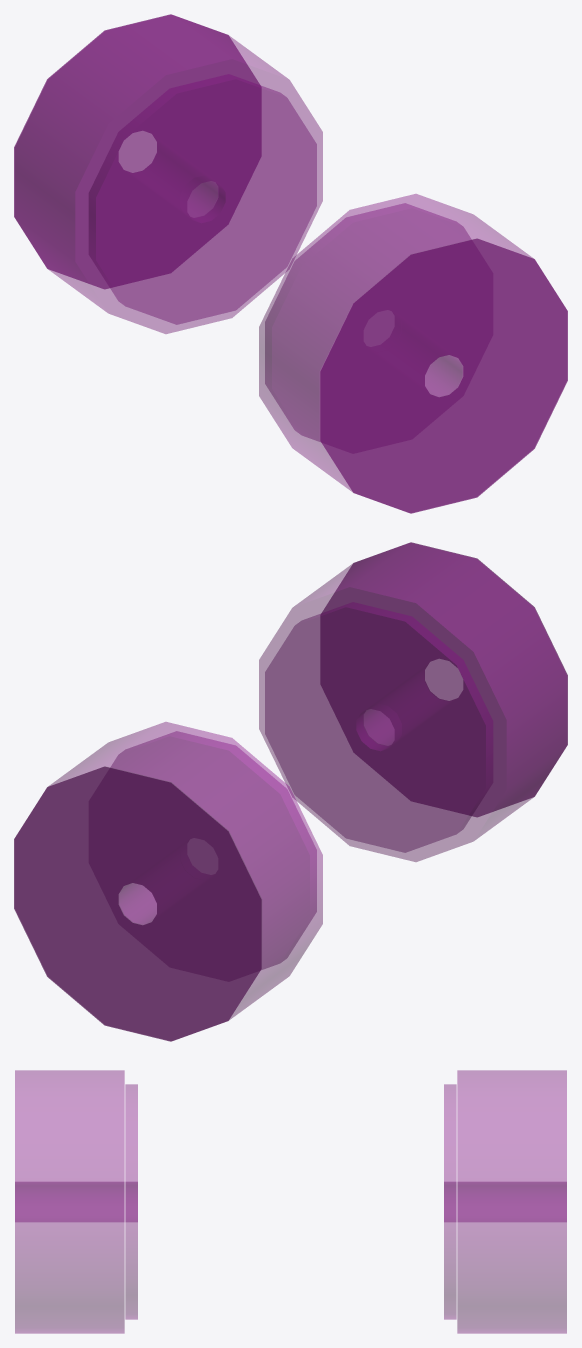
File: HCALRingDummy.gltf
The picture shows the model from 3 angles, top to bottom: view 1: azimuth 30°, elevation 25°; view 2: azimuth 150°, elevation 25°; view 3: azimuth 270°, elevation 25°; orthographic projection. The views are drawn at different scales.
Visible parts, largest first — view 1: endcap_1 (×2), endcap_0 (×3), HCalRingDummy_envelope_8; view 2: endcap_0 (×2), endcap_1 (×3), HCalRingDummy_envelope_8; view 3: endcap_0 (×2), endcap_1 (×2).
Boxes of the visible parts, x1,y1,x2,y2 form: endcap_1 (×2): [15, 15, 322, 333]; endcap_0 (×3): [259, 194, 567, 513]; HCalRingDummy_envelope_8: [14, 14, 567, 513]; endcap_0 (×2): [259, 543, 566, 861]; endcap_1 (×3): [14, 722, 322, 1041]; HCalRingDummy_envelope_8: [14, 542, 567, 1041]; endcap_0 (×2): [15, 1070, 137, 1333]; endcap_1 (×2): [444, 1070, 566, 1333].
Bounding box in the file's own units: 280 × 280 × 600.
